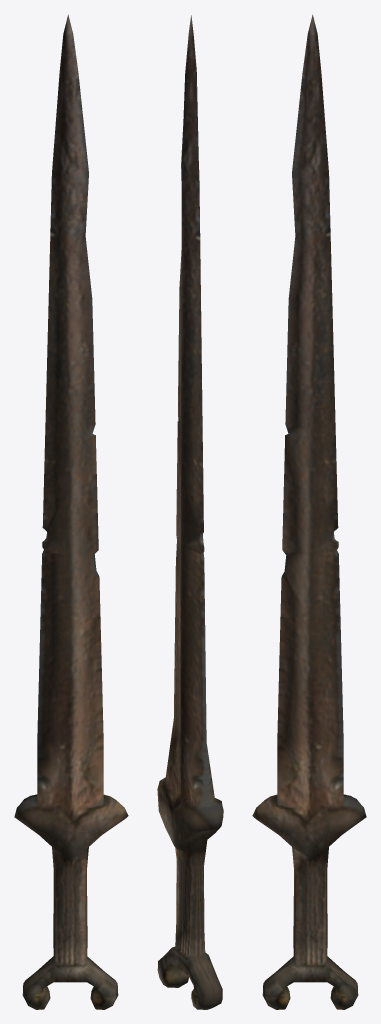
File: rusty_scrap_shortsword.glb
3 views of the same model, side by side, from view 1: azimuth 90°, elevation 25°; view 2: azimuth 210°, elevation 25°; view 3: azimuth 270°, elevation 25° (orthographic).
Parts seen in each view (by area): view 1: Object_3, Object_2; view 2: Object_3, Object_2; view 3: Object_3, Object_2.
Part boxes in pixels (box(x1,y1,x2,y2)): Object_3: box(14, 14, 128, 1009); Object_2: box(68, 15, 95, 428); Object_3: box(157, 15, 223, 1009); Object_2: box(178, 18, 190, 421); Object_3: box(252, 14, 366, 1009); Object_2: box(285, 15, 312, 428).
Size of the model in its own units: 0.3325 by 9.8 by 1.02.
Materials: 1 (1 with a texture image).
